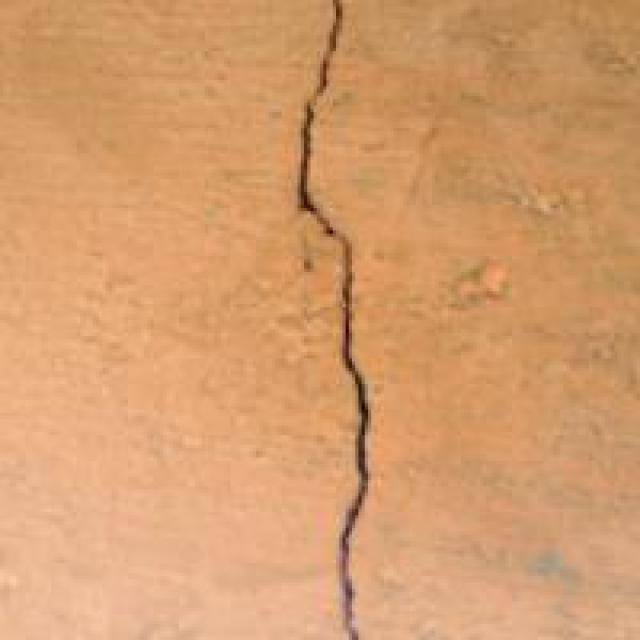Crack: (208, 0, 467, 637)
